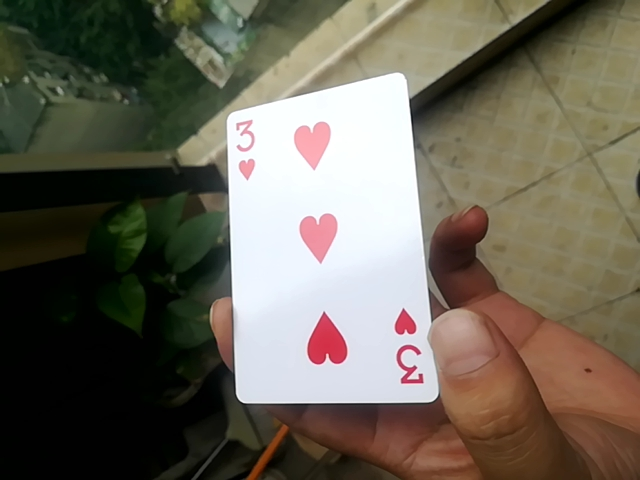hx 3: (232, 70, 443, 409)
